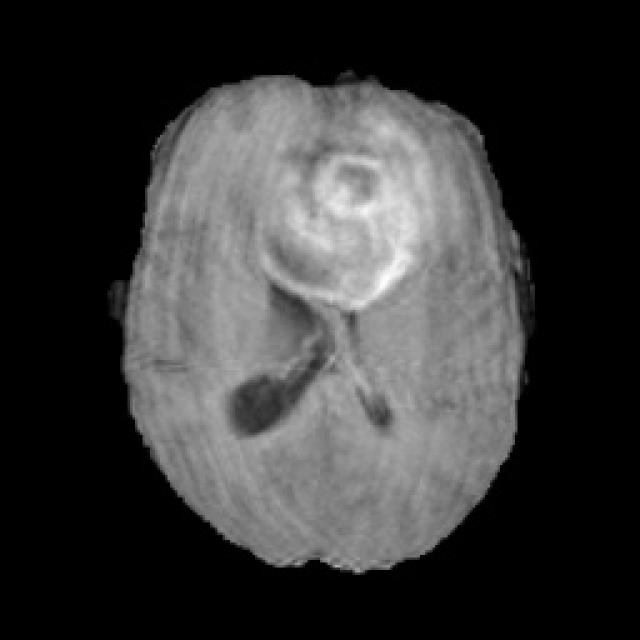negative: (255, 112, 417, 302)
